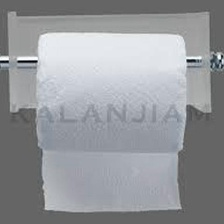tissue: (29, 28, 191, 215)
